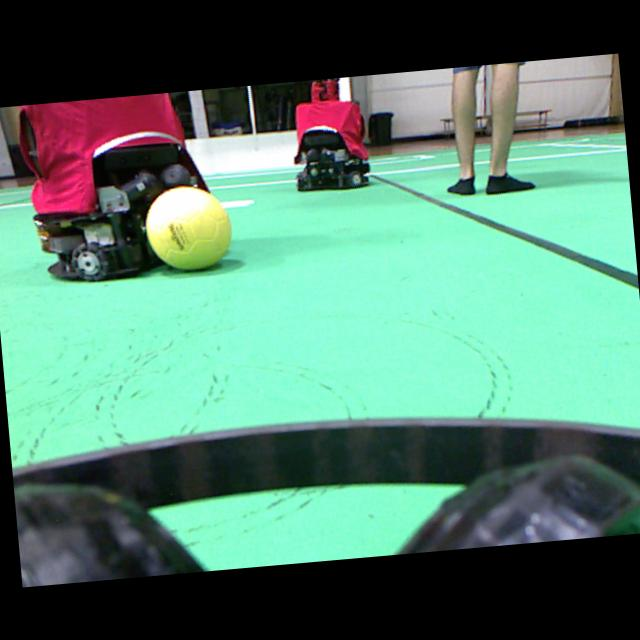ball: (145, 186, 230, 269)
